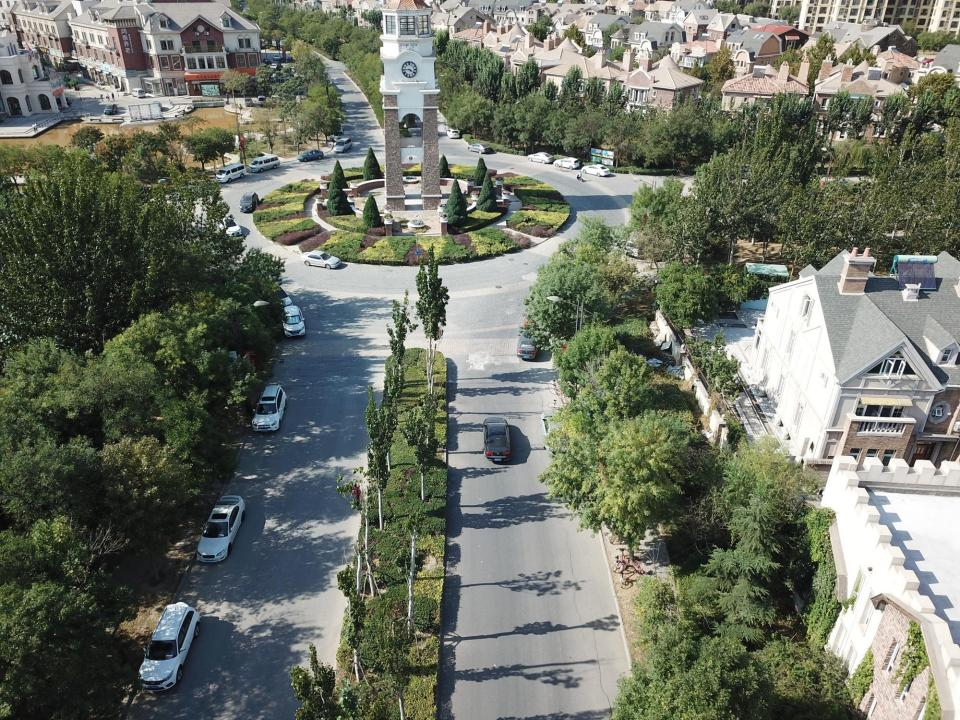car: (137, 603, 200, 693), (196, 494, 246, 563), (252, 384, 287, 434), (540, 411, 574, 453), (482, 417, 512, 462), (301, 249, 341, 270), (282, 305, 306, 338), (517, 327, 542, 358), (218, 216, 243, 237), (296, 148, 324, 162), (581, 164, 611, 176), (527, 152, 554, 164), (554, 157, 580, 169), (468, 143, 491, 154), (104, 102, 118, 114), (446, 128, 460, 139), (244, 97, 254, 107), (443, 122, 454, 130), (272, 54, 280, 60), (263, 57, 271, 63)
van: (625, 236, 658, 259), (215, 163, 246, 184), (248, 154, 280, 173), (240, 192, 258, 213), (333, 137, 352, 152), (51, 97, 72, 106), (131, 88, 145, 99), (257, 96, 266, 106)
